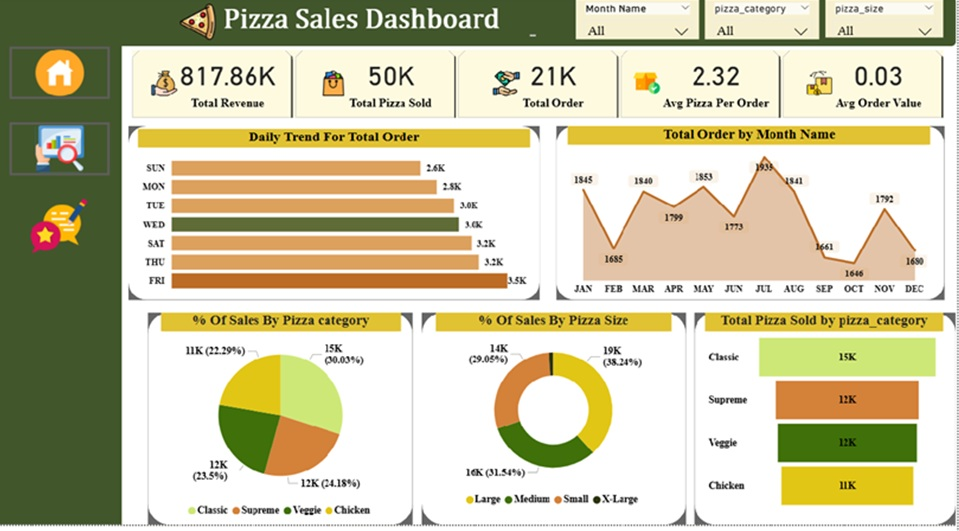

What the dashboard file says about the page in this screenshot:
{"tool":"powerbi","page":{"name":"Home Page","canvas":[1280,720],"ordinal":0},"visuals":[{"type":"cardVisual","fields":{"Data":["@Measure_table.Total Revenue","@Measure_table.Total Pizza Sold","@Measure_table.Total Order","@Measure_table.Avg Pizza Per Order","@Measure_table.Average Order Value"]},"box":[176.1,67.3,1094.4,103.9],"z":0},{"type":"shape","title":"Pizza","box":[0,0,1280,66.8],"z":1000},{"type":"shape","box":[0,39.1,167.5,681.1],"z":2000},{"type":"shape","box":[176.1,176.1,547.8,237.2],"z":3000},{"type":"clusteredBarChart","title":"Daily Trend For Total Order","fields":{"Category":["Date_table.Day Name"],"Y":["@Measure_table.Total Order"]},"box":[188.3,179.8,523.4,233.6],"z":4000},{"type":"shape","box":[747.2,176.1,517.3,237.2],"z":5000},{"type":"lineChart","fields":{"Category":["Date_table.Month Name"],"Y":["@Measure_table.Total Order"]},"box":[761.8,176.1,484.2,237.2],"z":6000},{"type":"shape","box":[186.1,492,385.2,199.1],"z":7000},{"type":"shape","box":[186.1,492,385.2,199.1],"z":8000},{"type":"shape","box":[202,429.9,353.5,290],"z":9000},{"type":"shape","box":[567,429.9,352,290],"z":10000},{"type":"shape","box":[930.6,429.9,349.1,290],"z":11000},{"type":"pieChart","title":"% Of Sales By Pizza category","fields":{"Category":["pizza_sales.pizza_category"],"Y":["@Measure_table.Total Pizza Sold"]},"box":[218.9,430.4,320.4,289.8],"z":12000},{"type":"donutChart","title":"% Of Sales By Pizza Size","fields":{"Category":["pizza_sales.pizza_size"],"Y":["@Measure_table.Total Pizza Sold"]},"box":[585.7,430.4,314.3,275.1],"z":13000},{"type":"funnel","fields":{"Category":["pizza_sales.pizza_category"],"Y":["@Measure_table.Total Pizza Sold"]},"box":[945.2,430.4,317.9,275.1],"z":14000},{"type":"textbox","title":"Pizza Sales Dashboard","box":[249.5,9.8,474.5,48.9],"z":15000},{"type":"slicer","fields":{"Values":["Date_table.Month Name"]},"box":[772.3,2.8,165,55.5],"z":16000},{"type":"slicer","fields":{"Values":["pizza_sales.pizza_category"]},"box":[945.1,2.8,152.2,55.5],"z":17000},{"type":"slicer","fields":{"Values":["pizza_sales.pizza_size"]},"box":[1105.1,2.8,157.9,52.6],"z":18000},{"type":"actionButton","box":[17.3,67.8,134.2,72.1],"z":19000},{"type":"actionButton","box":[17,171,134,72],"z":20000},{"type":"actionButton","box":[17.3,266.9,134.2,93.8],"z":21000},{"type":"actionButton","box":[239.7,0,57.5,67.3],"z":22000}]}

Visuals, with their boxes in screenshot pixels (x1, y1, x2, y2), scaled from the page's 1280x720 canvas onto the 959x531 screenshot:
cardVisual - @Measure_table.Total Revenue x @Measure_table.Total Pizza Sold: {"left": 132, "top": 50, "right": 952, "bottom": 126}
"Pizza" shape: {"left": 0, "top": 0, "right": 958, "bottom": 49}
shape: {"left": 0, "top": 29, "right": 125, "bottom": 530}
shape: {"left": 132, "top": 130, "right": 542, "bottom": 305}
"Daily Trend For Total Order" clusteredBarChart: {"left": 141, "top": 133, "right": 533, "bottom": 305}
shape: {"left": 560, "top": 130, "right": 947, "bottom": 305}
lineChart - Date_table.Month Name x @Measure_table.Total Order: {"left": 571, "top": 130, "right": 934, "bottom": 305}
shape: {"left": 139, "top": 363, "right": 428, "bottom": 510}
shape: {"left": 139, "top": 363, "right": 428, "bottom": 510}
shape: {"left": 151, "top": 317, "right": 416, "bottom": 530}
shape: {"left": 425, "top": 317, "right": 689, "bottom": 530}
shape: {"left": 697, "top": 317, "right": 958, "bottom": 530}
"% Of Sales By Pizza category" pieChart: {"left": 164, "top": 317, "right": 404, "bottom": 530}
"% Of Sales By Pizza Size" donutChart: {"left": 439, "top": 317, "right": 674, "bottom": 520}
funnel - pizza_sales.pizza_category x @Measure_table.Total Pizza Sold: {"left": 708, "top": 317, "right": 946, "bottom": 520}
"Pizza Sales Dashboard" textbox: {"left": 187, "top": 7, "right": 542, "bottom": 43}
slicer - Date_table.Month Name: {"left": 579, "top": 2, "right": 702, "bottom": 43}
slicer - pizza_sales.pizza_category: {"left": 708, "top": 2, "right": 822, "bottom": 43}
slicer - pizza_sales.pizza_size: {"left": 828, "top": 2, "right": 946, "bottom": 41}
actionButton: {"left": 13, "top": 50, "right": 114, "bottom": 103}
actionButton: {"left": 13, "top": 126, "right": 113, "bottom": 179}
actionButton: {"left": 13, "top": 197, "right": 114, "bottom": 266}
actionButton: {"left": 180, "top": 0, "right": 223, "bottom": 50}
